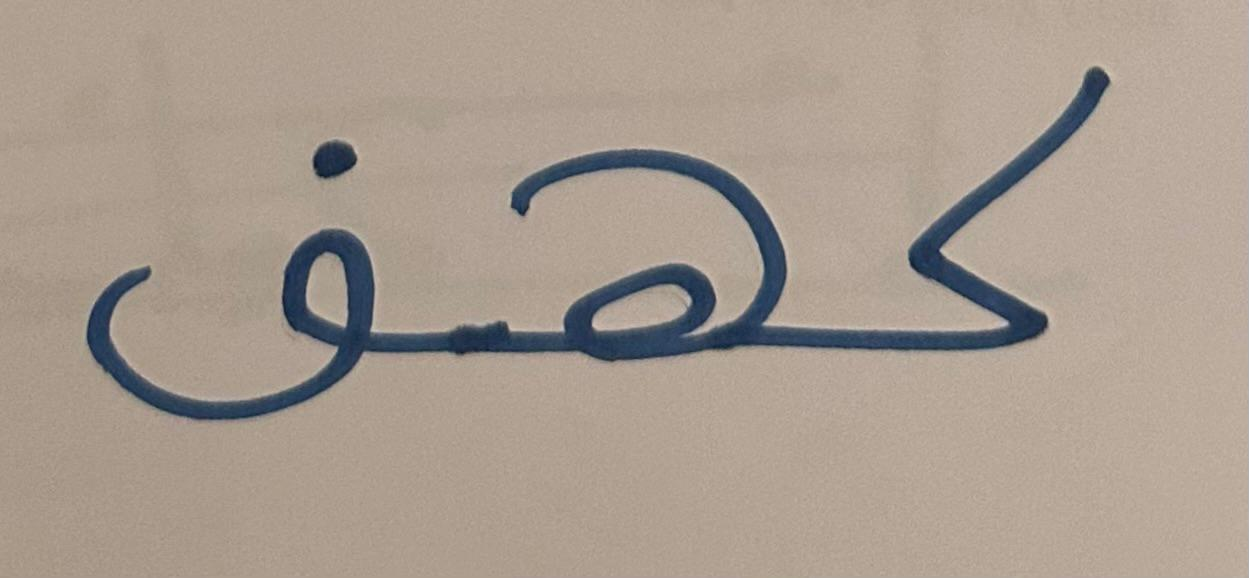feh: (32, 41, 416, 503)
jeem: (420, 28, 806, 485)
khah: (809, 24, 1212, 500)
